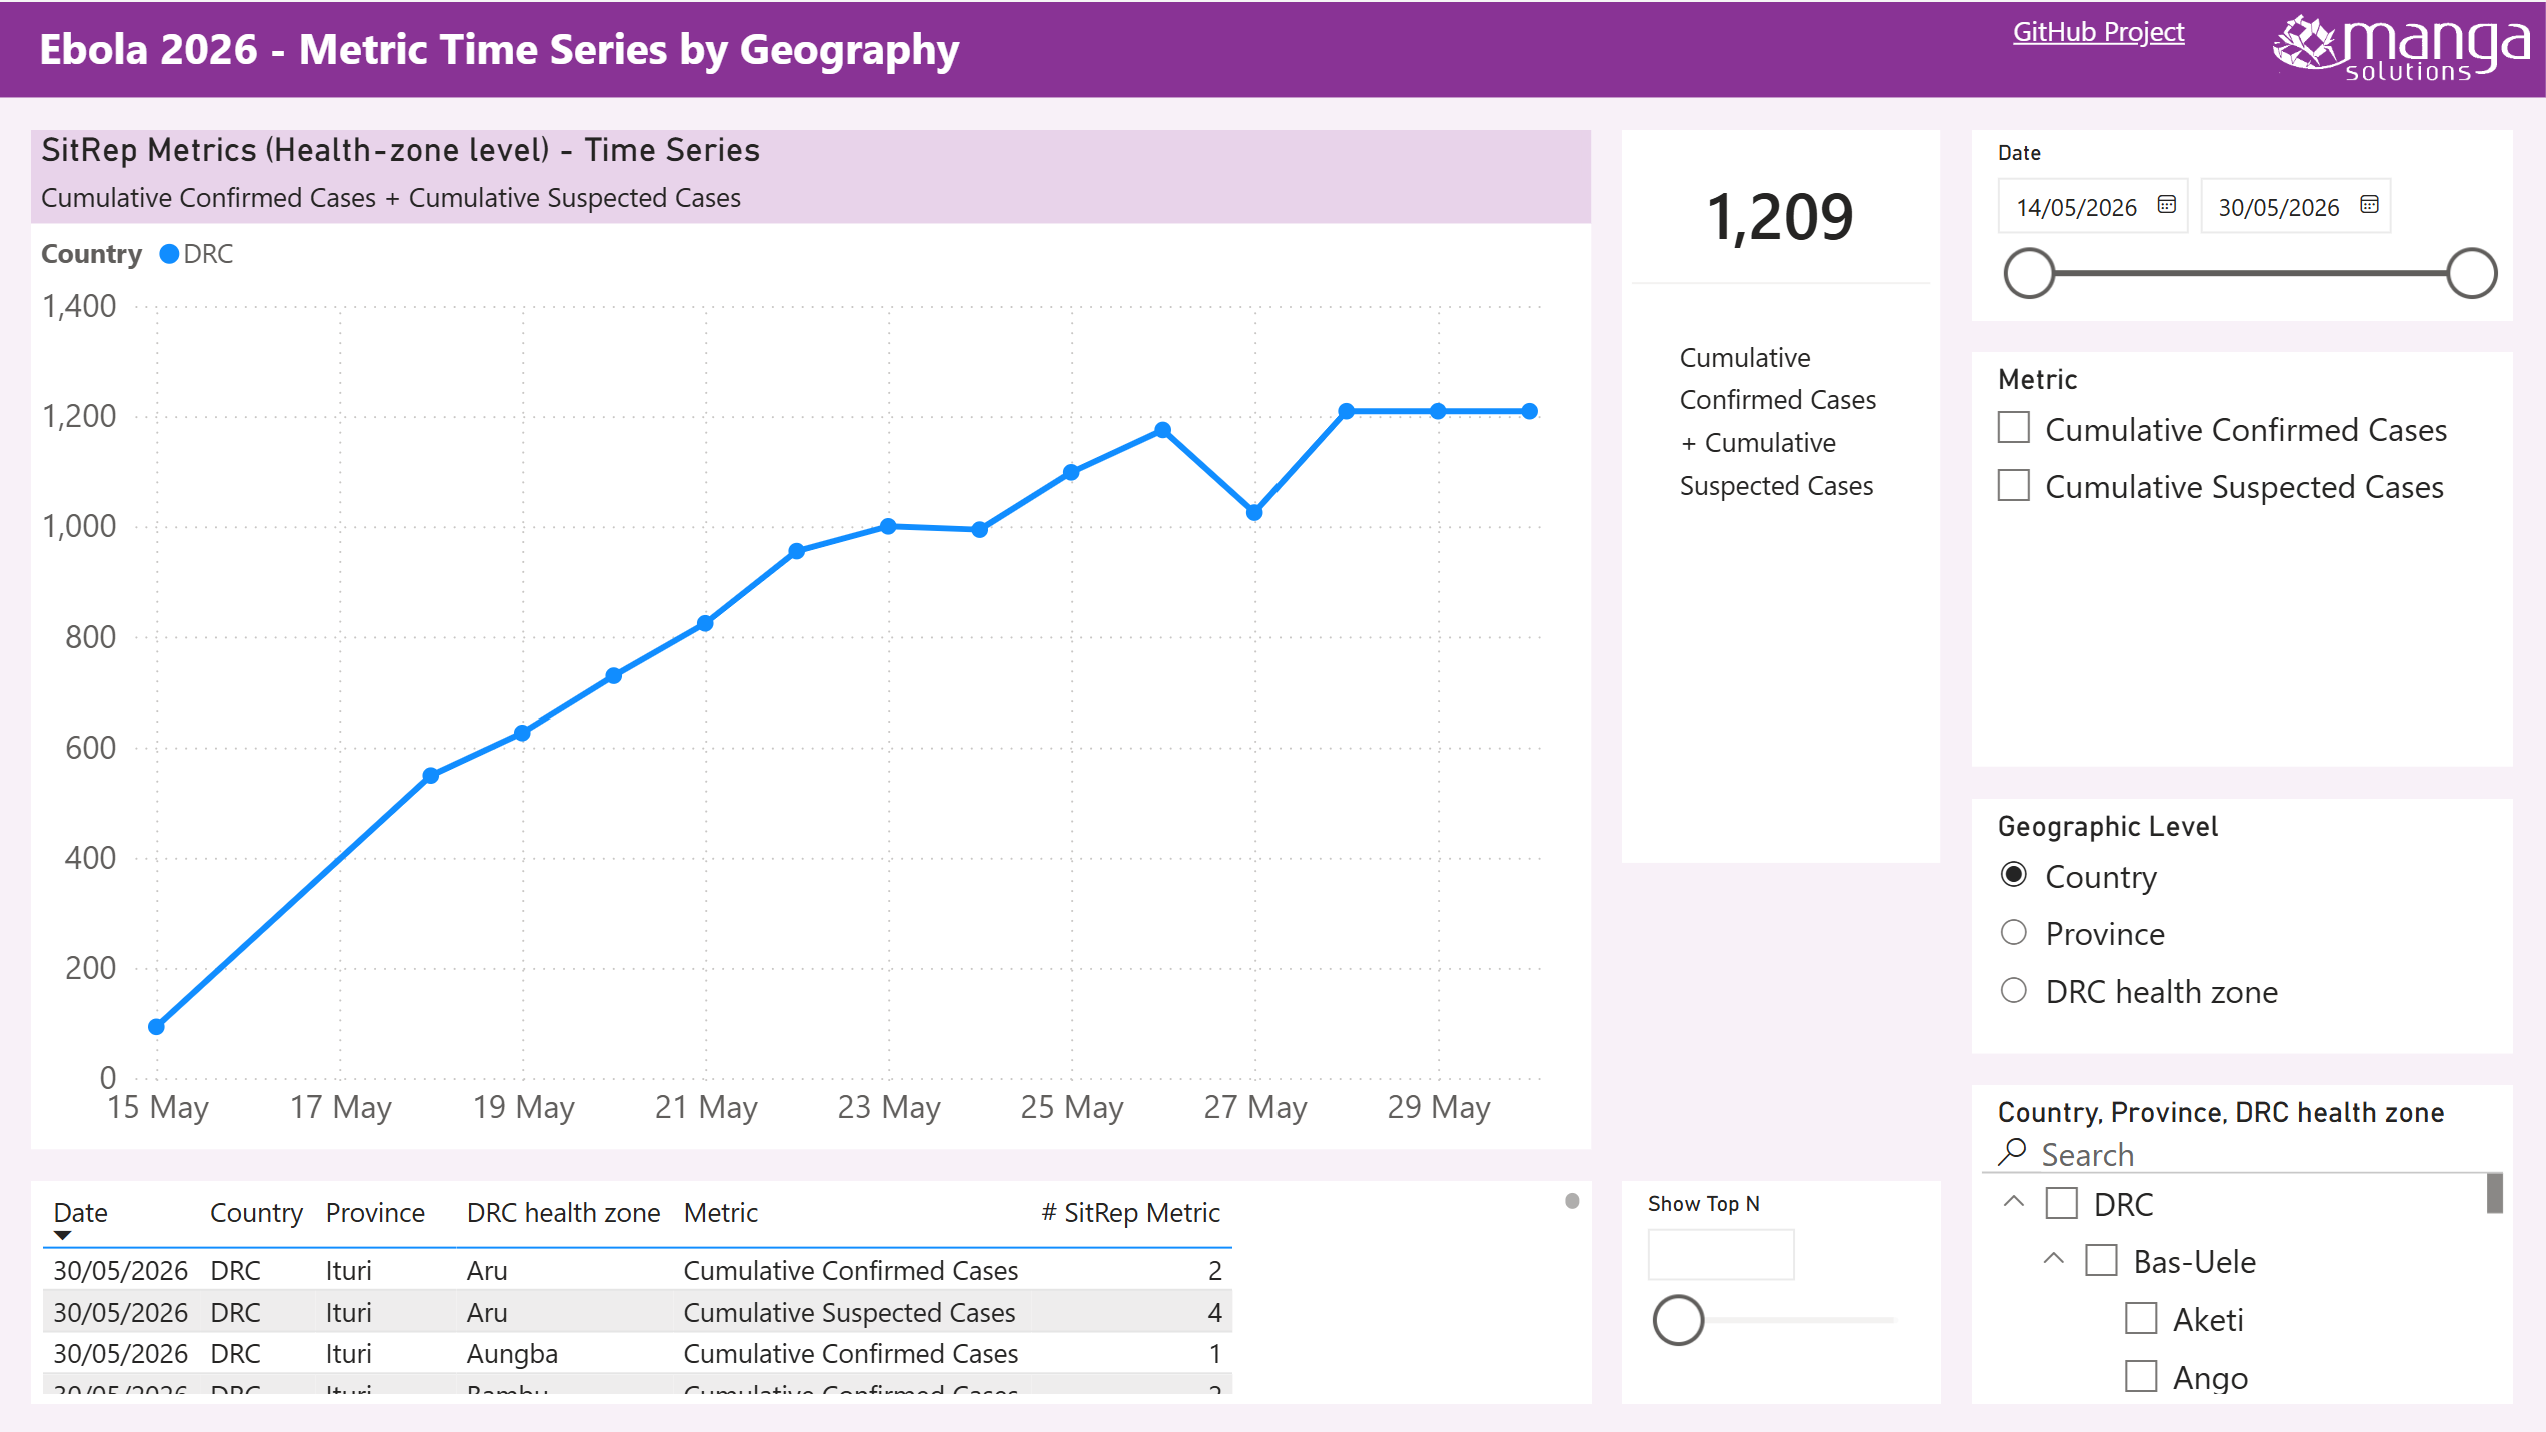

The page's visual inventory and layout, read from the dashboard file:
{"tool":"powerbi","page":{"name":"Metric Time Series by Geography","canvas":[1280,720],"ordinal":0},"visuals":[{"type":"textbox","box":[0,0,1280,48],"z":0},{"type":"textbox","box":[992,0,112,32],"z":1000},{"type":"lineChart","title":"SitRep Metrics (Health-zone level) - Time Series","fields":{"Category":["Dates.Date"],"Series":["DRC Health Zones.Country"],"Y":["SitRep Metrics.# SitRep Metric"]},"box":[16,64,784,512],"z":2000},{"type":"cardVisual","fields":{"Data":["SitRep Metrics.# SitRep Metric"]},"box":[816,64,160,368],"z":3000},{"type":"slicer","fields":{"Values":["Dates.Date"]},"box":[992,64,272,96],"z":4000},{"type":"slicer","fields":{"Values":["SitRep Metrics.Metric"]},"box":[992,176,272,208],"z":5000},{"type":"tableEx","fields":{"Values":["Dates.Date","DRC Health Zones.Country","DRC Health Zones.Province","DRC_Health_zones.DRC health zone","SitRep Metrics.Metric","SitRep Metrics.# SitRep Metric"]},"box":[16,592,784,112],"z":6000},{"type":"slicer","fields":{"Values":["Parameter.Parameter"]},"box":[992,400,272,128],"z":7000},{"type":"slicer","fields":{"Values":["DRC Health Zones.Country","DRC Health Zones.Province","DRC Health Zones.DRC health zone"]},"box":[992,544,272,160],"z":8000},{"type":"slicer","fields":{"Values":["^ N.^ N"]},"box":[816,592,160,112],"z":9000},{"type":"image","box":[1136,0,144,48],"z":10000}]}

Visuals, with their boxes in screenshot pixels (x1, y1, x2, y2), scaled from the page's 1280x720 canvas onto the 2546x1432 screenshot:
textbox: [x1=0, y1=0, x2=2545, y2=95]
textbox: [x1=1973, y1=0, x2=2196, y2=64]
"SitRep Metrics (Health-zone level) - Time Series" lineChart: [x1=32, y1=127, x2=1591, y2=1146]
cardVisual - SitRep Metrics.# SitRep Metric: [x1=1623, y1=127, x2=1941, y2=859]
slicer - Dates.Date: [x1=1973, y1=127, x2=2514, y2=318]
slicer - SitRep Metrics.Metric: [x1=1973, y1=350, x2=2514, y2=764]
tableEx - Dates.Date x DRC Health Zones.Country: [x1=32, y1=1177, x2=1591, y2=1400]
slicer - Parameter.Parameter: [x1=1973, y1=796, x2=2514, y2=1050]
slicer - DRC Health Zones.Country x DRC Health Zones.Province: [x1=1973, y1=1082, x2=2514, y2=1400]
slicer - ^ N.^ N: [x1=1623, y1=1177, x2=1941, y2=1400]
image: [x1=2260, y1=0, x2=2545, y2=95]
